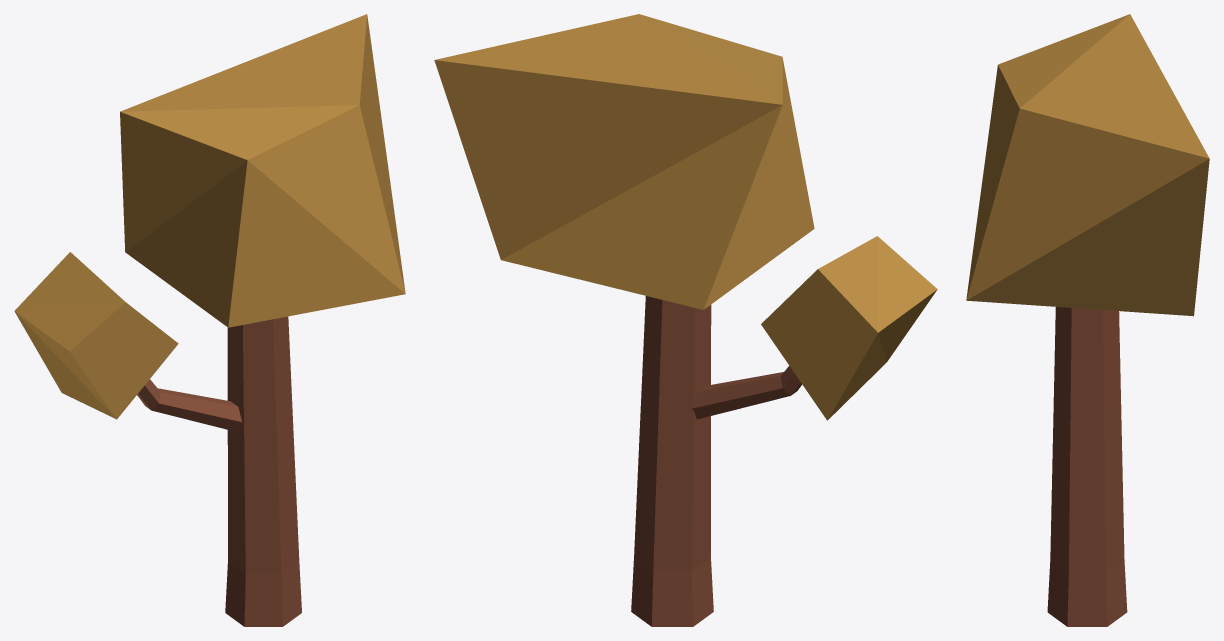
The model's file is Tree_45_autumn_mat.fbx.
The picture shows the model from 3 angles, left to right: view 1: azimuth 30°, elevation 25°; view 2: azimuth 150°, elevation 25°; view 3: azimuth 270°, elevation 25°; orthographic projection. The views are drawn at different scales.
Visible parts, largest first — view 1: Tree_45_autumn_mat; view 2: Tree_45_autumn_mat; view 3: Tree_45_autumn_mat.
Boxes of the visible parts, x1=… form: Tree_45_autumn_mat: x1=14, y1=14, x2=405, y2=626; Tree_45_autumn_mat: x1=434, y1=14, x2=937, y2=626; Tree_45_autumn_mat: x1=966, y1=14, x2=1209, y2=626.
Bounding box in the file's own units: 139 × 179 × 73.58.
